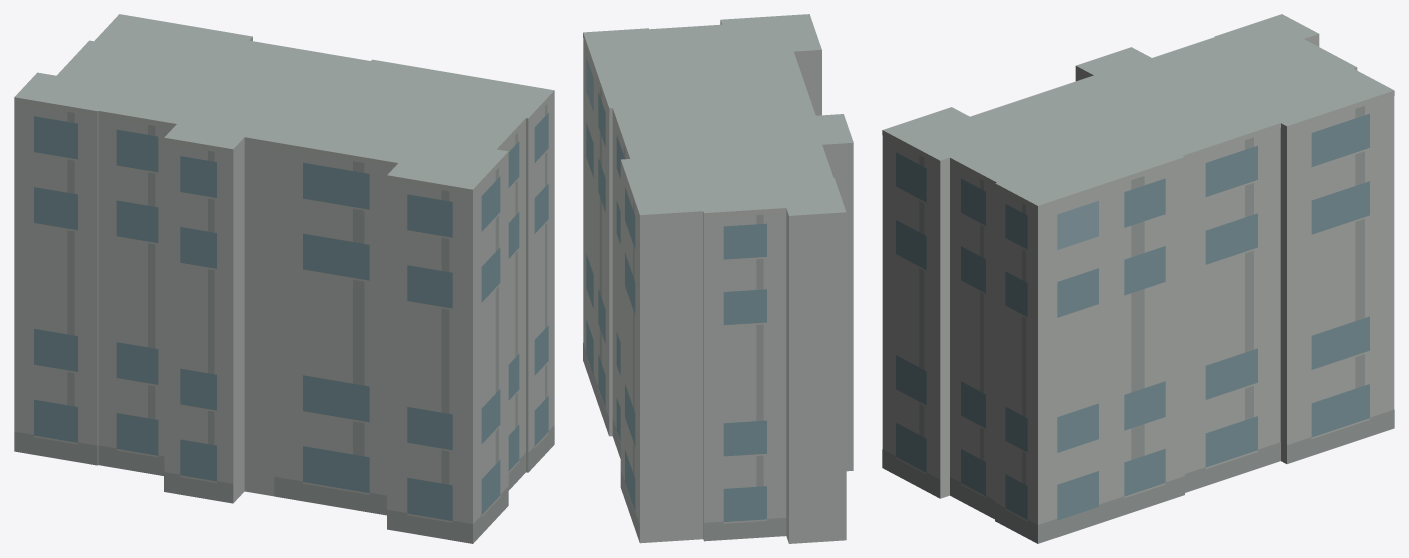
The model's file is survey-upis-32622867.glb.
3 renders of one model, left to right at view 1: azimuth 30°, elevation 25°; view 2: azimuth 150°, elevation 25°; view 3: azimuth 270°, elevation 25°, orthographic. The views are drawn at different scales.
Parts seen in each view (by area): view 1: survey-upis-32622867.tmp; view 2: survey-upis-32622867.tmp; view 3: survey-upis-32622867.tmp.
Part boxes in pixels (left/top/right/bottom): survey-upis-32622867.tmp: left=14, top=14, right=554, bottom=543; survey-upis-32622867.tmp: left=583, top=14, right=853, bottom=543; survey-upis-32622867.tmp: left=882, top=14, right=1394, bottom=543.
Bounding box in the file's own units: 18.58 × 15.25 × 20.95.
